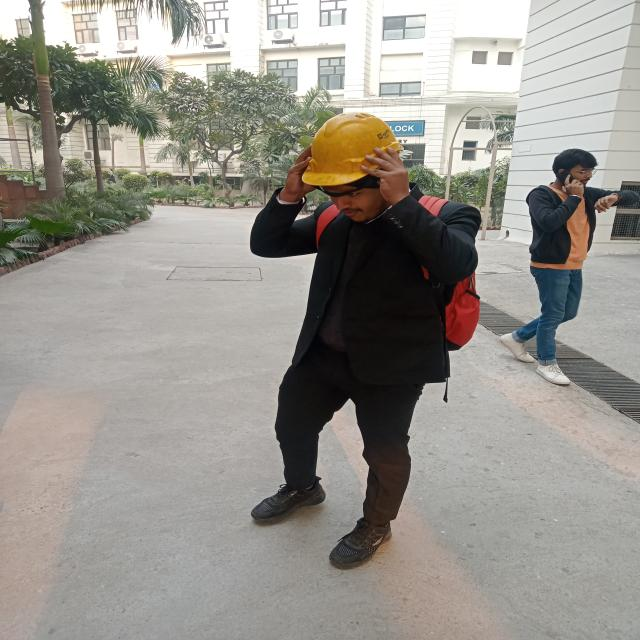no jacket: (251, 110, 468, 565)
unsafe: (498, 148, 640, 385)
